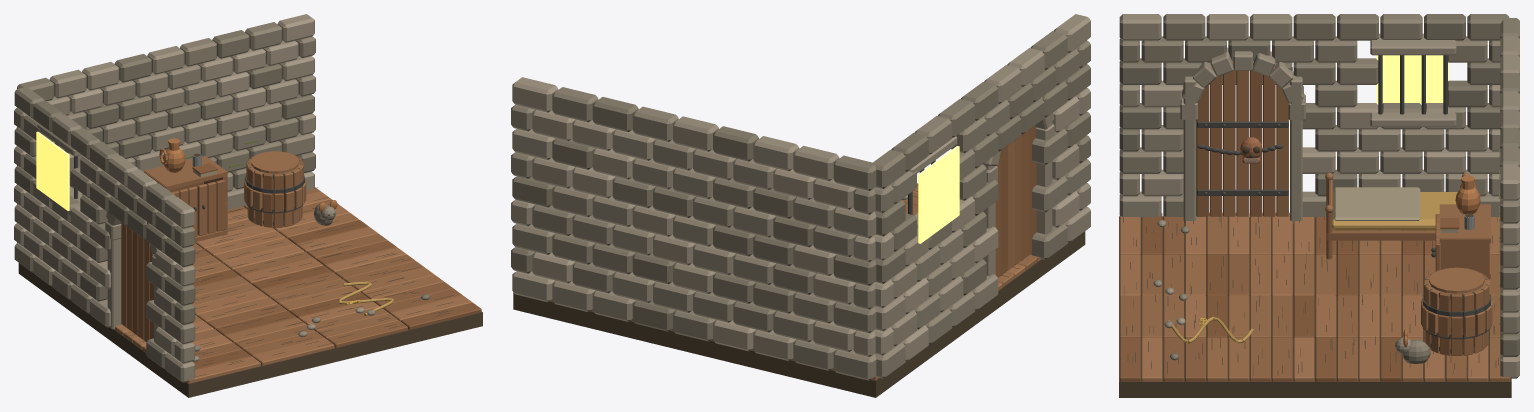
File: prison-cell.glb
3 views of the same model, side by side, from view 1: azimuth 30°, elevation 25°; view 2: azimuth 150°, elevation 25°; view 3: azimuth 270°, elevation 25° (orthographic). The views are drawn at different scales.
Parts seen in each view (by area): view 1: Cell_wall, CellFloor, Barrel stave, Door oak, Cell_window, Cabinet back, Cell_door, Cabinet door.003, Barrel lid, Cell_jug, Cell_rope, Cabinet door (+1 smaller); view 2: Cell_wall, CellFloor, Door oak, Cell_window, Cell_door; view 3: CellFloor, Cell_wall, Door oak, Cell_bed, Cell_door, Cell_window, Barrel stave, Cabinet back, Barrel lid, Cell_jug, Cell_mouse, Cell_rope (+1 smaller).
Part boxes in pixels (x1=…): Cell_wall: x1=14, y1=14, x2=429, y2=382; CellFloor: x1=18, y1=187, x2=482, y2=397; Barrel stave: x1=244, y1=154, x2=306, y2=227; Door oak: x1=121, y1=223, x2=153, y2=342; Cell_window: x1=36, y1=123, x2=82, y2=215; Cabinet back: x1=144, y1=156, x2=227, y2=241; Cell_door: x1=105, y1=198, x2=158, y2=342; Cabinet door.003: x1=197, y1=179, x2=225, y2=235; Barrel lid: x1=251, y1=151, x2=298, y2=173; Cell_jug: x1=159, y1=138, x2=201, y2=172; Cell_rope: x1=338, y1=281, x2=393, y2=316; Cabinet door: x1=171, y1=186, x2=197, y2=236; Cell_wall: x1=511, y1=14, x2=1090, y2=380; CellFloor: x1=513, y1=183, x2=1085, y2=397; Door oak: x1=995, y1=126, x2=1036, y2=277; Cell_window: x1=908, y1=136, x2=959, y2=243; Cell_door: x1=982, y1=95, x2=1055, y2=275; CellFloor: x1=1119, y1=212, x2=1511, y2=397; Cell_wall: x1=1119, y1=14, x2=1519, y2=378; Door oak: x1=1196, y1=61, x2=1288, y2=216; Cell_bed: x1=1325, y1=172, x2=1469, y2=259; Cell_door: x1=1180, y1=47, x2=1305, y2=224; Cell_window: x1=1370, y1=33, x2=1456, y2=126; Barrel stave: x1=1421, y1=272, x2=1492, y2=355; Cabinet back: x1=1439, y1=204, x2=1490, y2=294; Barrel lid: x1=1429, y1=267, x2=1484, y2=293; Cell_jug: x1=1455, y1=175, x2=1480, y2=229; Cell_mouse: x1=1395, y1=329, x2=1430, y2=363; Cell_rope: x1=1168, y1=316, x2=1253, y2=343.
Size of the model in its own units: 5.79 by 3.4 by 5.72.
